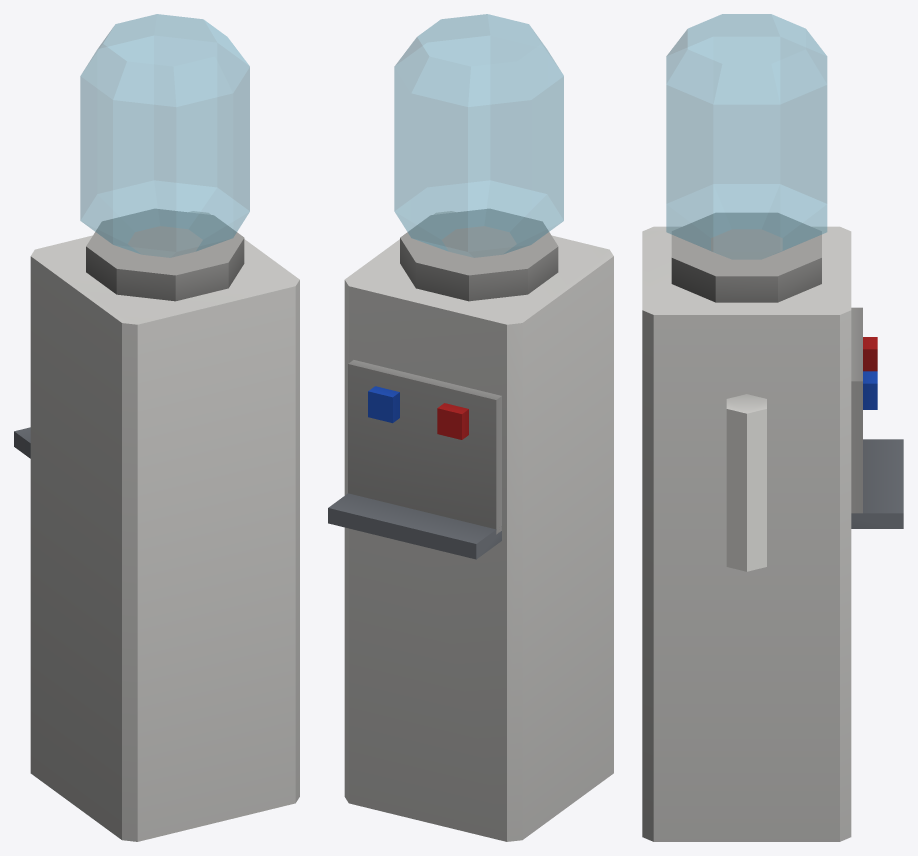
The model's file is water_dispenser_01.glb.
3 renders of one model, left to right at view 1: azimuth 30°, elevation 25°; view 2: azimuth 150°, elevation 25°; view 3: azimuth 270°, elevation 25°, orthographic.
Parts seen in each view (by area): view 1: water_dispenser_01_mesh, water_dispenser_01_glass; view 2: water_dispenser_01_mesh, water_dispenser_01_glass; view 3: water_dispenser_01_mesh, water_dispenser_01_glass.
Part boxes in pixels (x1,y1,x2,y2): water_dispenser_01_mesh: [14, 208, 299, 841]; water_dispenser_01_glass: [80, 14, 249, 257]; water_dispenser_01_mesh: [328, 208, 613, 841]; water_dispenser_01_glass: [394, 14, 563, 257]; water_dispenser_01_mesh: [642, 212, 903, 841]; water_dispenser_01_glass: [666, 14, 826, 259].
Size of the model in its own units: 0.4399 by 1.44 by 0.4499.
Materials: 2 (2 with a texture image).
